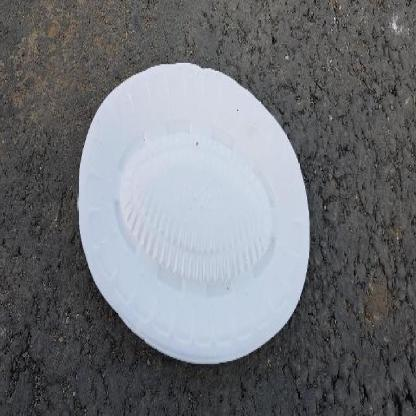Glass Cup: (76, 61, 310, 366), (78, 62, 310, 364)
